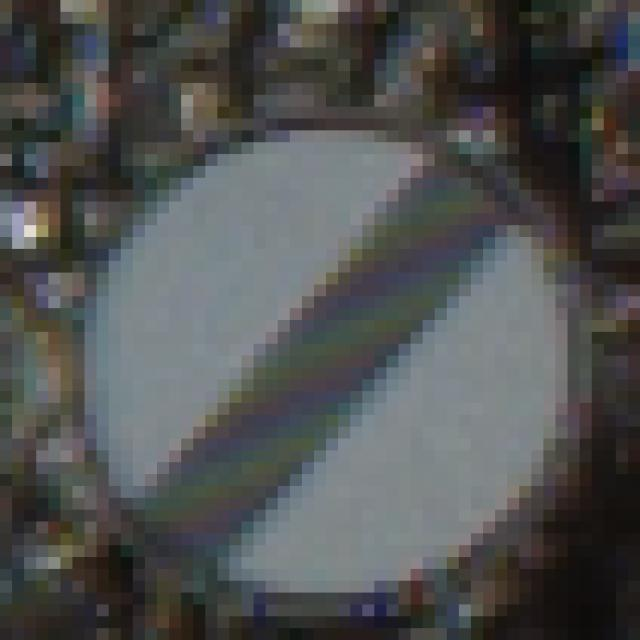restriction ends: (73, 126, 565, 594)
